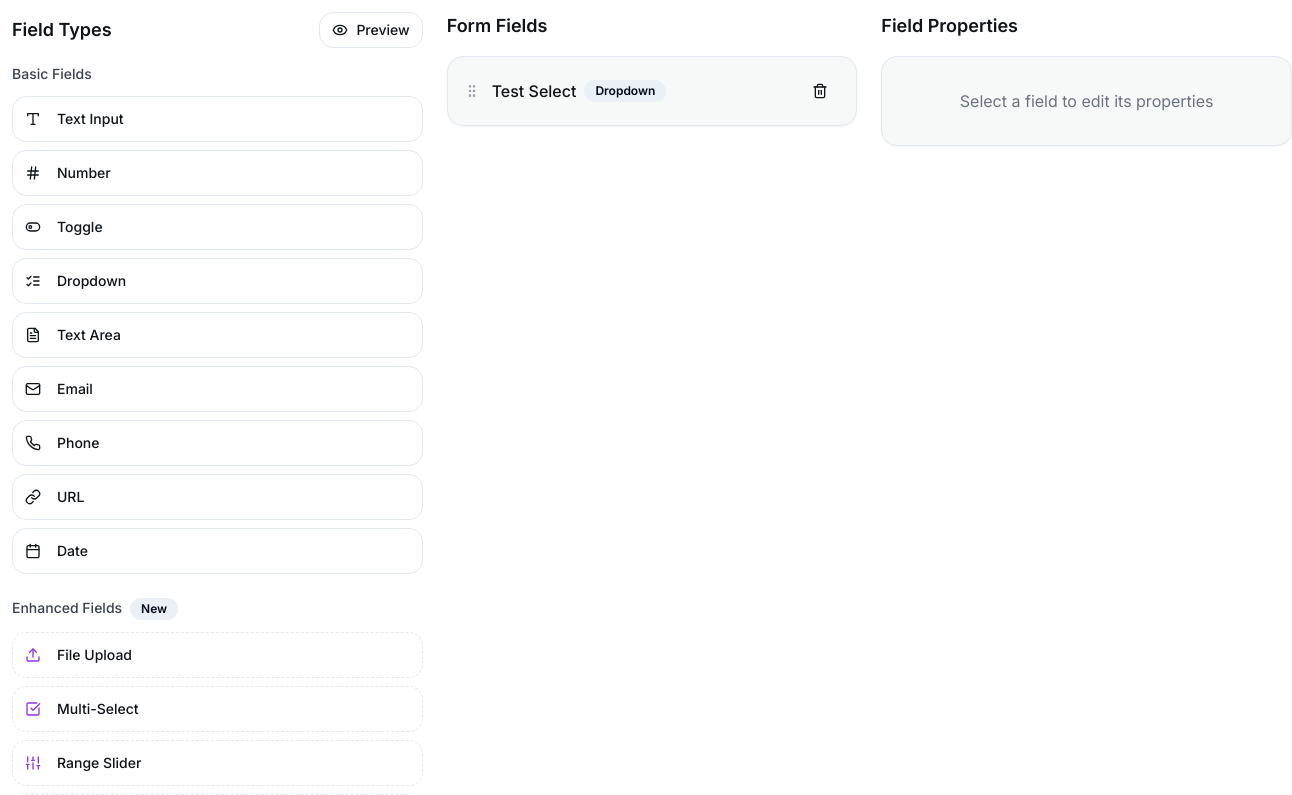
VisualFormDesigner › Select Field Options › should display select field options for editing
Note: Select the field
Click the text "Test Select" at (534,91), box [492,79,576,103]
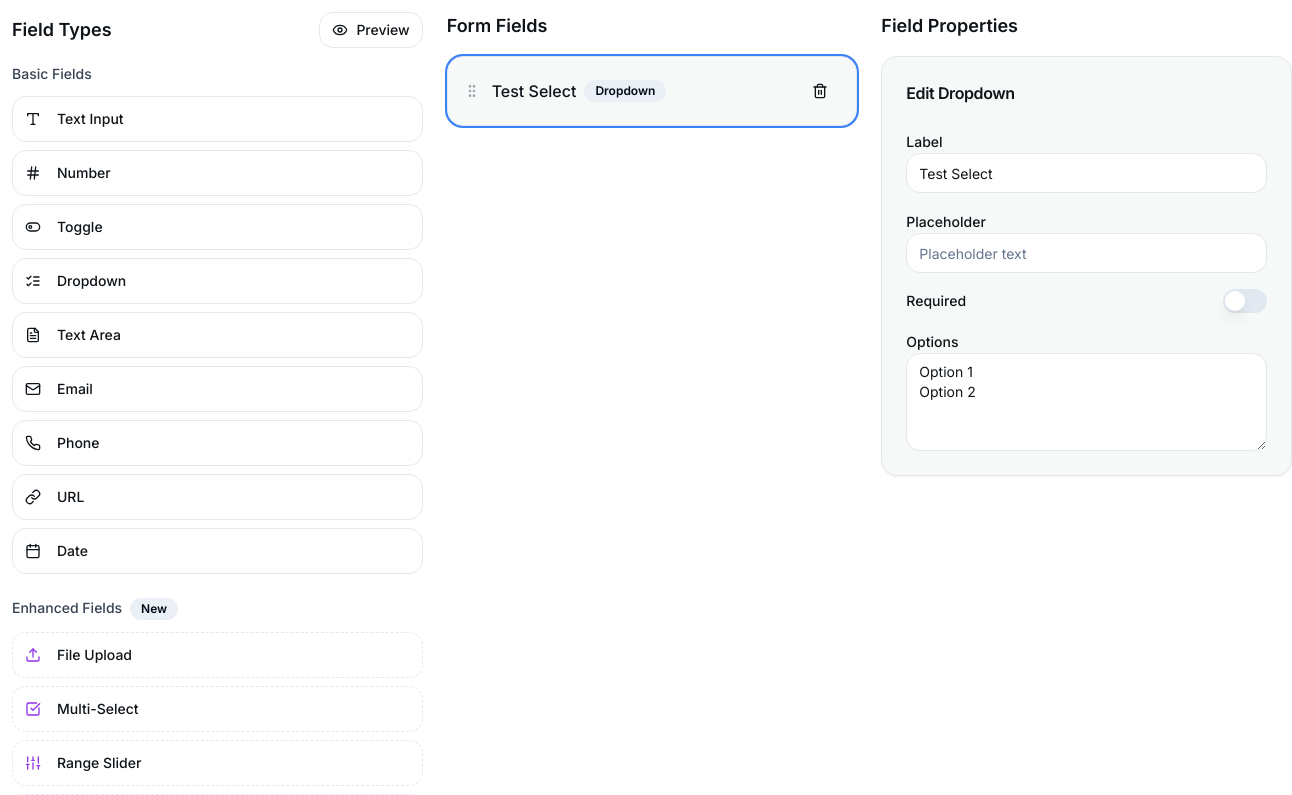
Now the text box with placeholder "One option per line" is shown, box [906,353,1267,451]
